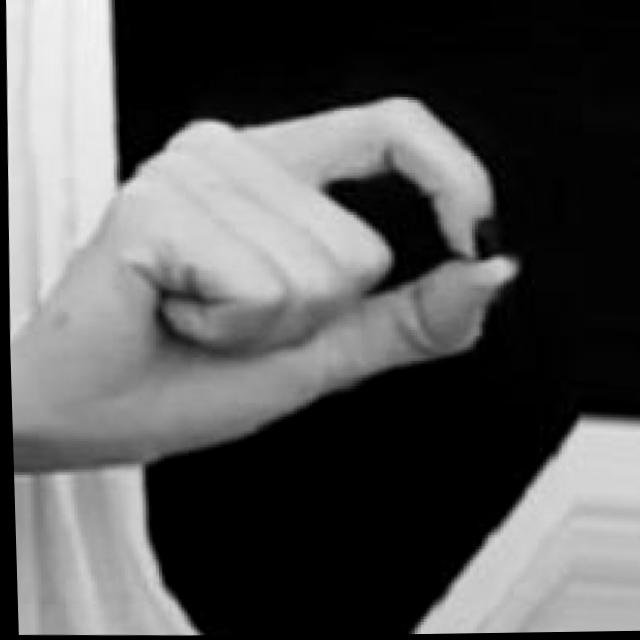O: (2, 62, 533, 483)
